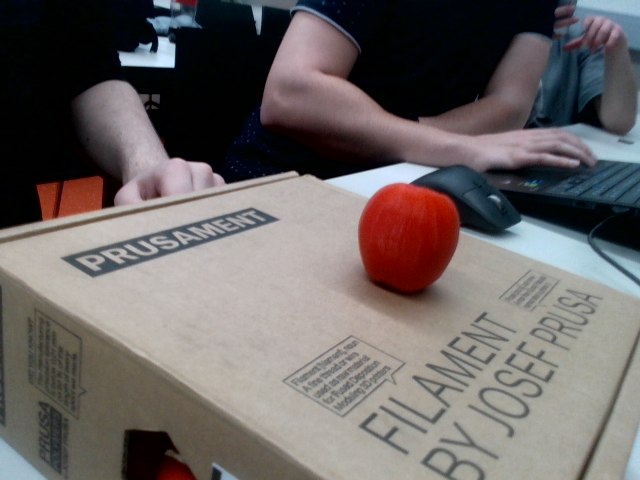red apple: (345, 175, 468, 302)
